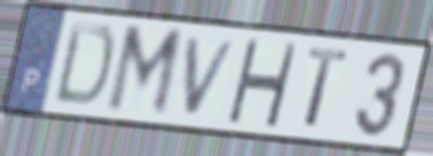3: (350, 50, 406, 141)
D: (50, 18, 118, 110)
H: (224, 35, 300, 130)
M: (102, 22, 187, 121)
T: (302, 44, 352, 132)
V: (182, 35, 242, 119)
